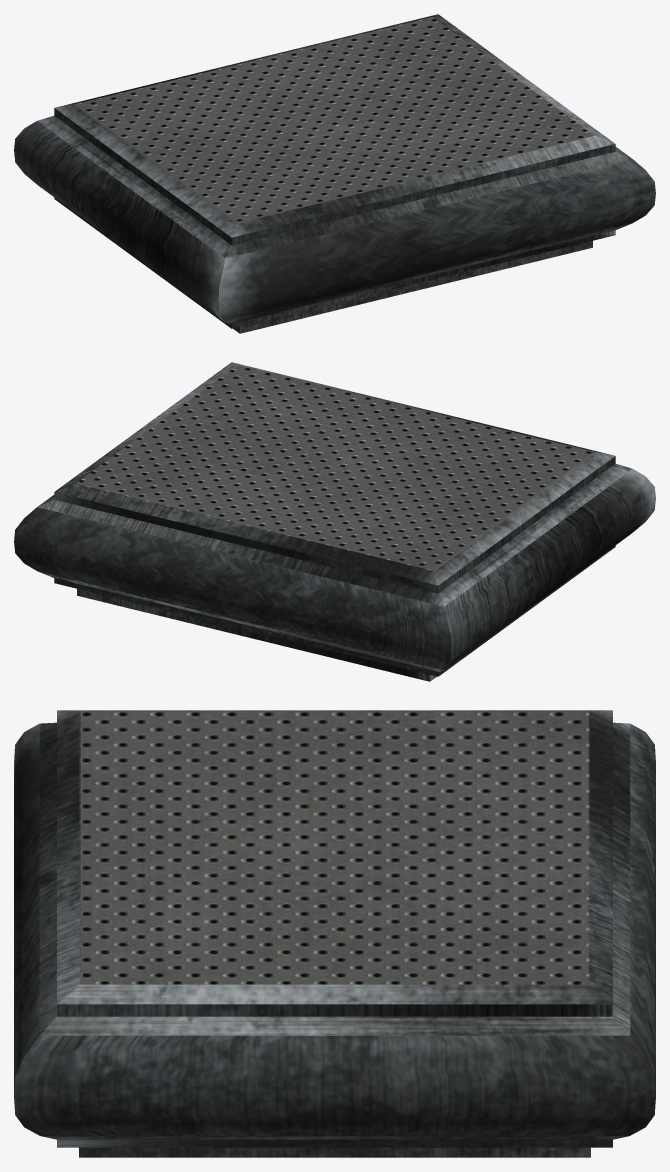
File: MovingPlatform.FBX
3 renders of one model, top to bottom at view 1: azimuth 30°, elevation 25°; view 2: azimuth 150°, elevation 25°; view 3: azimuth 270°, elevation 25°, orthographic. The views are drawn at different scales.
Visible parts, largest first — view 1: MovingPlatform; view 2: MovingPlatform; view 3: MovingPlatform.
Part boxes in pixels (left/top/right/bottom): MovingPlatform: left=14, top=14, right=655, bottom=333; MovingPlatform: left=14, top=362, right=655, bottom=681; MovingPlatform: left=14, top=710, right=655, bottom=1157.
Size of the model in its own units: 91.7 by 22.28 by 74.32.
1 material, 1 textured.
